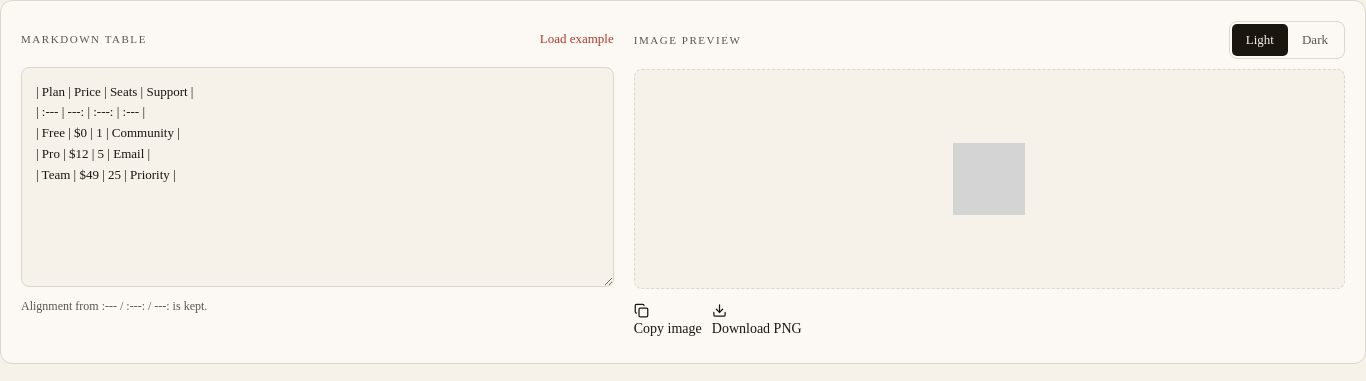
Test: TableImageTool › renders the sample table and copies the image with table_tool tracking
Click the button "Copy image" at (668, 321), box [634,299,702,343]
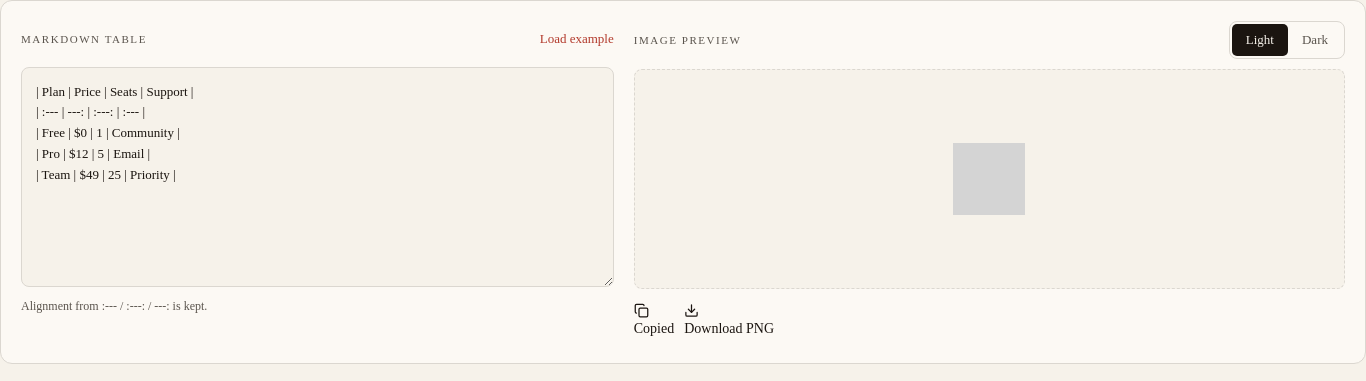
Result: the button "Copied" is shown at [634,299,674,343]
